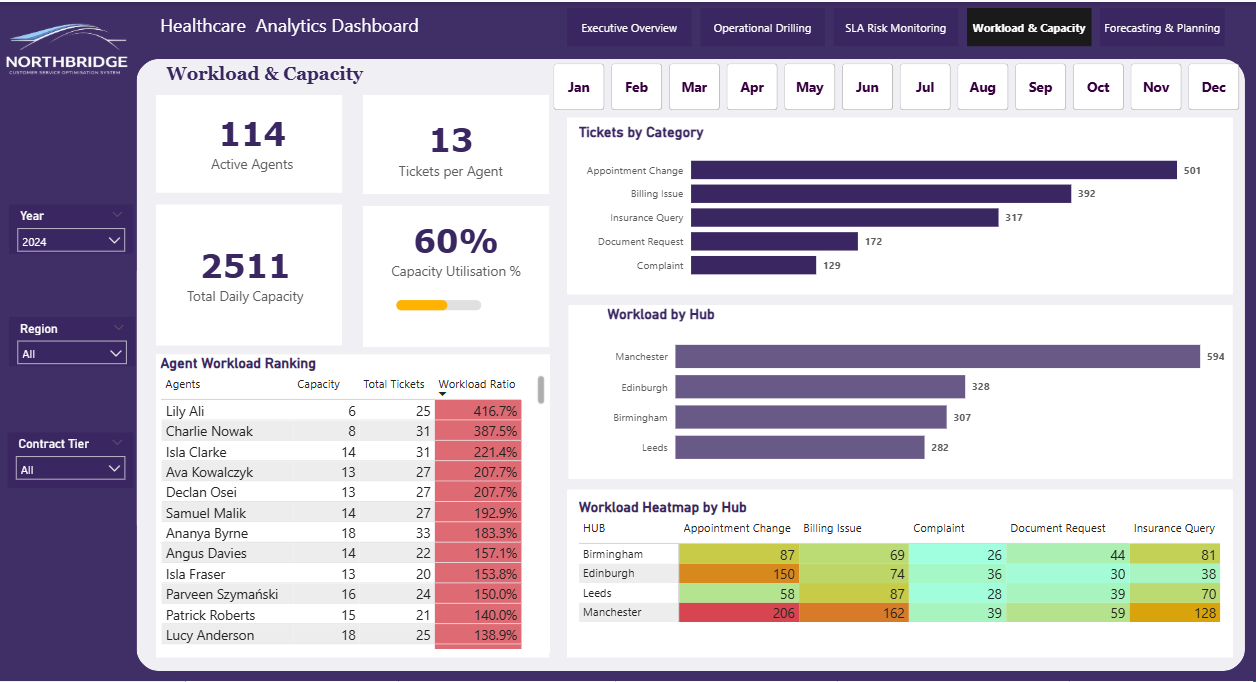

Layout of this report page (visuals, bound fields, positions):
{"tool":"powerbi","page":{"name":"Workload & Capacity","canvas":[1480,800],"ordinal":3},"visuals":[{"type":"shape","box":[160.8,67.2,1306.1,721.1],"z":0},{"type":"textbox","box":[190.9,67.2,298.7,46],"z":1000},{"type":"shape","box":[184.1,109.6,219.5,115.1],"z":2000},{"type":"shape","box":[427.7,109.6,219.2,116.6],"z":3000},{"type":"shape","box":[183.8,238.6,219.2,166.1],"z":4000},{"type":"shape","box":[427.7,240.4,219.2,166.1],"z":5000},{"type":"shape","box":[183.8,415.3,463,357],"z":6000},{"type":"cardVisual","fields":{"Data":["Calculations.Active Agents"]},"box":[190.9,109.6,212.1,114.9],"z":7000},{"type":"cardVisual","fields":{"Data":["Calculations.Tickets per Agent"]},"box":[433,121.9,196.2,104.3],"z":8000},{"type":"cardVisual","fields":{"Data":["Calculations.Total Daily Capacity"]},"box":[190.9,245.7,196.2,153.8],"z":9000},{"type":"cardVisual","fields":{"Data":["Calculations.Capacity Utilisation %"]},"box":[427.7,243.9,219.2,162.6],"z":10000},{"type":"shape","box":[669.8,357,782.9,205],"z":11000},{"type":"tableEx","title":"Agent Workload Ranking","fields":{"Values":["AGENTS.FULL_NAME","AGENTS.DAILY_CAPACITY","Calculations.Total Tickets","Calculations.Workload Ratio"]},"box":[183.8,415.3,463,351.7],"z":12000},{"type":"shape","box":[668.1,136.1,784.7,208.5],"z":13000},{"type":"clusteredBarChart","title":"Workload by Hub","fields":{"Category":["AGENTS.HUB"],"Y":["Calculations.Total Tickets"]},"box":[710.5,357,737,201.5],"z":14000},{"type":"clusteredBarChart","title":"Tickets by Category","fields":{"Category":["TICKETCATEGORIES.CATEGORY_NAME"],"Y":["Calculations.Total Tickets"]},"box":[676.9,143.2,770.6,194.4],"z":15000},{"type":"shape","box":[668.1,574.4,784.7,197.9],"z":16000},{"type":"pivotTable","title":"Workload Heatmap by Hub","fields":{"Rows":["AGENTS.HUB"],"Columns":["TICKETCATEGORIES.CATEGORY_NAME"],"Values":["Calculations.Total Tickets"]},"box":[676.9,585,770.6,176.7],"z":17000},{"type":"slicer","fields":{"Values":["Date.Year"]},"box":[10.6,238.6,146.7,58.3],"z":18000},{"type":"slicer","fields":{"Values":["CLIENTS.REGION"]},"box":[10.6,371.1,148.5,58.3],"z":19000},{"type":"slicer","fields":{"Values":["CLIENTS.CONTRACT_TIER"]},"box":[8.8,507.2,148.5,65.4],"z":20000},{"type":"image","box":[0,0,157.3,109.6],"z":21000},{"type":"textbox","box":[183.8,7.1,339.3,46],"z":22000},{"type":"pageNavigator","box":[668.1,7.1,779.4,46],"z":23000},{"type":"advancedSlicerVisual","fields":{"Values":["Date.Month_name"]},"box":[646.8,67.2,820,65.4],"z":24000}]}

Visuals, with their boxes in screenshot pixels (x1, y1, x2, y2), scaled from the page's 1480x800 canvas onto the 1256x682 screenshot:
shape: x1=136, y1=57, x2=1245, y2=672
textbox: x1=162, y1=57, x2=415, y2=97
shape: x1=156, y1=93, x2=343, y2=192
shape: x1=363, y1=93, x2=549, y2=193
shape: x1=156, y1=203, x2=342, y2=345
shape: x1=363, y1=205, x2=549, y2=347
shape: x1=156, y1=354, x2=549, y2=658
cardVisual - Calculations.Active Agents: x1=162, y1=93, x2=342, y2=191
cardVisual - Calculations.Tickets per Agent: x1=367, y1=104, x2=534, y2=193
cardVisual - Calculations.Total Daily Capacity: x1=162, y1=209, x2=329, y2=341
cardVisual - Calculations.Capacity Utilisation %: x1=363, y1=208, x2=549, y2=347
shape: x1=568, y1=304, x2=1233, y2=479
"Agent Workload Ranking" tableEx: x1=156, y1=354, x2=549, y2=654
shape: x1=567, y1=116, x2=1233, y2=294
"Workload by Hub" clusteredBarChart: x1=603, y1=304, x2=1228, y2=476
"Tickets by Category" clusteredBarChart: x1=574, y1=122, x2=1228, y2=288
shape: x1=567, y1=490, x2=1233, y2=658
"Workload Heatmap by Hub" pivotTable: x1=574, y1=499, x2=1228, y2=649
slicer - Date.Year: x1=9, y1=203, x2=133, y2=253
slicer - CLIENTS.REGION: x1=9, y1=316, x2=135, y2=366
slicer - CLIENTS.CONTRACT_TIER: x1=7, y1=432, x2=133, y2=488
image: x1=0, y1=0, x2=133, y2=93
textbox: x1=156, y1=6, x2=444, y2=45
pageNavigator: x1=567, y1=6, x2=1228, y2=45
advancedSlicerVisual - Date.Month_name: x1=549, y1=57, x2=1245, y2=113
